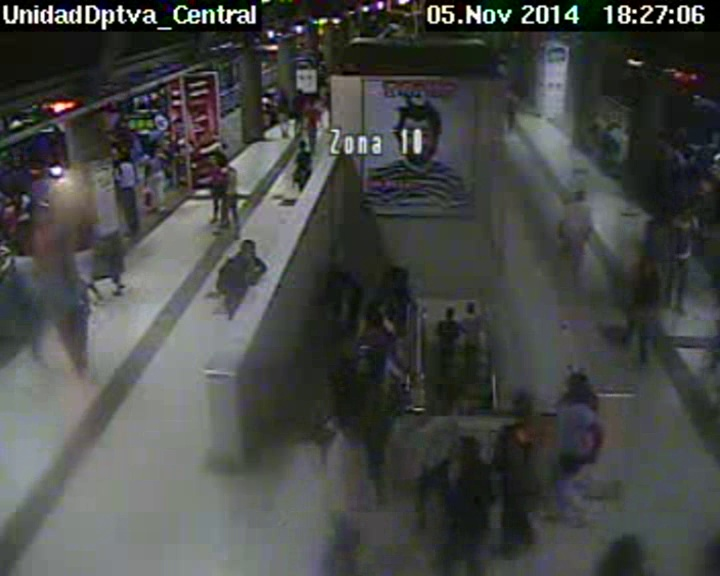person: (452, 430, 482, 462), (509, 391, 537, 421), (563, 369, 591, 395), (366, 343, 387, 365), (365, 306, 387, 327), (388, 270, 408, 293), (637, 253, 656, 272), (428, 403, 446, 423), (676, 204, 694, 223), (59, 261, 77, 280), (241, 237, 258, 257), (699, 176, 715, 194), (651, 206, 666, 222), (14, 239, 29, 255), (34, 206, 49, 221), (368, 399, 381, 415), (572, 187, 586, 201), (18, 193, 32, 207), (29, 167, 43, 181), (443, 304, 456, 319), (464, 301, 477, 315), (222, 156, 235, 170), (672, 135, 685, 149), (74, 209, 87, 222), (209, 154, 221, 167), (339, 267, 351, 279), (658, 128, 669, 141), (108, 234, 120, 245), (296, 138, 307, 149), (147, 146, 158, 157), (118, 150, 129, 161), (683, 147, 693, 158), (308, 98, 317, 108), (4, 197, 13, 207), (699, 136, 708, 145), (295, 87, 303, 97), (279, 85, 286, 96), (118, 121, 127, 129), (506, 82, 514, 91), (581, 101, 589, 110), (611, 119, 619, 127), (591, 109, 599, 117), (592, 123, 600, 131), (712, 152, 720, 160), (624, 127, 631, 135), (265, 92, 272, 99), (606, 124, 612, 131), (267, 83, 273, 89), (324, 91, 330, 97)
